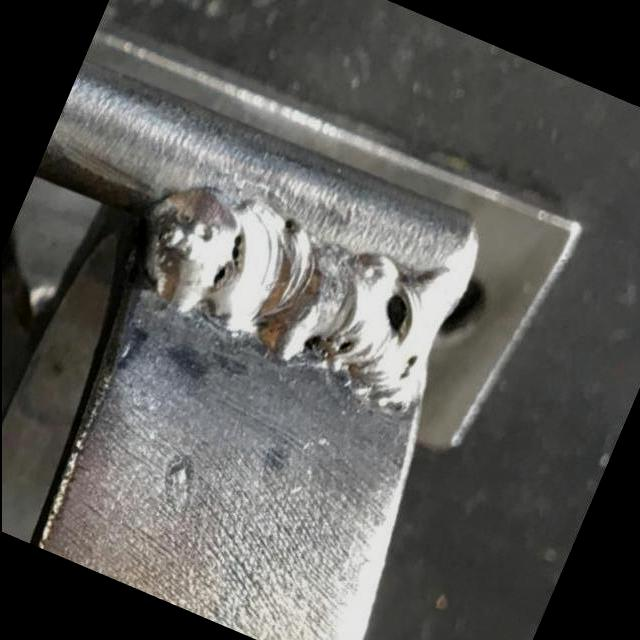defect: (379, 283, 421, 352), (206, 230, 246, 292), (301, 323, 359, 360), (279, 216, 294, 234)
